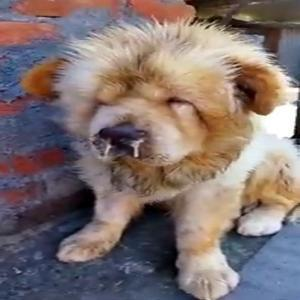nasal_discharge: (96, 124, 145, 160)
